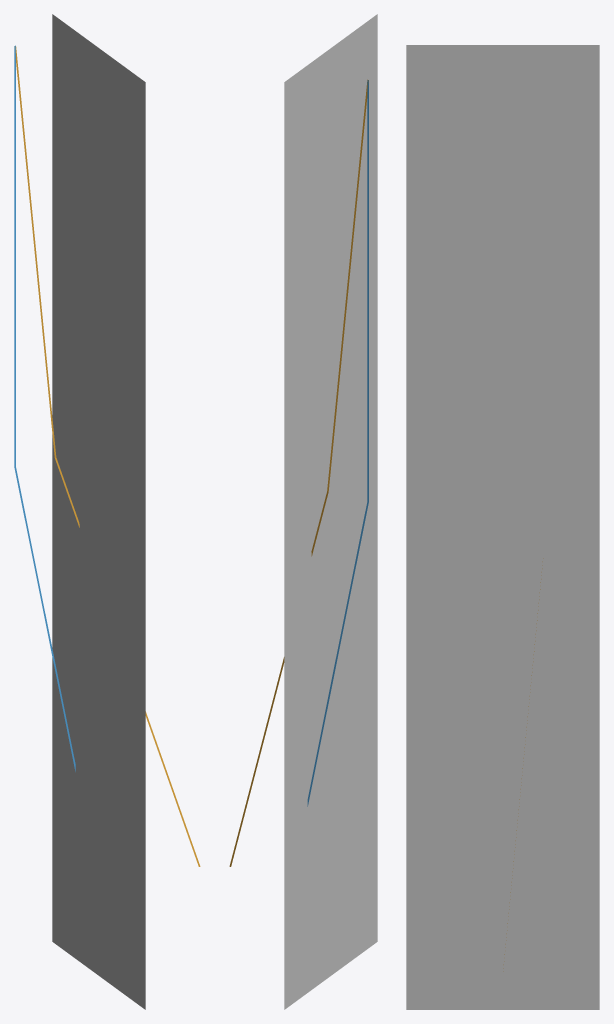
Rendered from planned-actual-section.glb.
3 renders of one model, left to right at view 1: azimuth 30°, elevation 25°; view 2: azimuth 150°, elevation 25°; view 3: azimuth 270°, elevation 25°, orthographic. The views are drawn at different scales.
Parts seen in each view (by area): view 1: Section E=15 m, Planned well, Actual well; view 2: Section E=15 m, Actual well, Planned well; view 3: Section E=15 m.
Part boxes in pixels (x1,y1,x2,y2): Section E=15 m: (52,14,145,1009); Planned well: (14,45,75,771); Actual well: (15,46,200,866); Section E=15 m: (284,14,377,1009); Actual well: (229,79,368,866); Planned well: (307,80,368,806); Section E=15 m: (406,45,599,1009).
Size of the model in its own units: 40.4 by 220 by 40.
